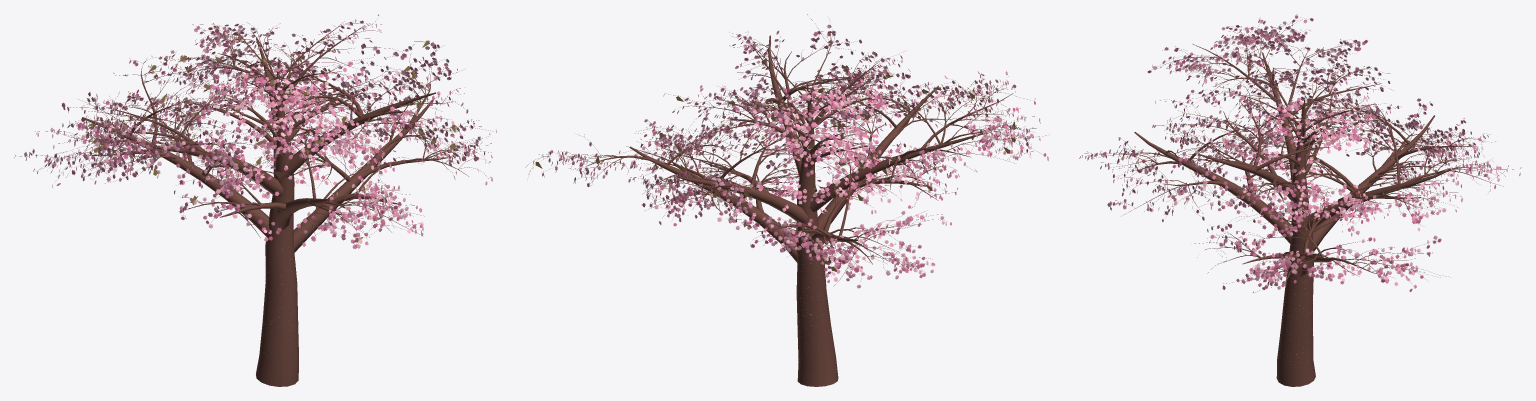
File: kanzan_04.glb
3 renders of one model, left to right at view 1: azimuth 30°, elevation 25°; view 2: azimuth 150°, elevation 25°; view 3: azimuth 270°, elevation 25°, orthographic. The views are drawn at different scales.
Visible parts, largest first — view 1: Kanzan Bark | warm reddish brown, Kanzan Petals | pale pink, Kanzan Petals | blush, Kanzan Petals | warm pink, Kanzan Young leaves | bronze green; view 2: Kanzan Bark | warm reddish brown, Kanzan Petals | pale pink, Kanzan Petals | blush, Kanzan Petals | warm pink; view 3: Kanzan Bark | warm reddish brown, Kanzan Petals | pale pink, Kanzan Petals | blush, Kanzan Petals | warm pink, Kanzan Young leaves | bronze green.
Boxes of the visible parts, bbox=[...] form: Kanzan Bark | warm reddish brown: bbox=[19, 20, 492, 386]; Kanzan Petals | pale pink: bbox=[24, 19, 489, 248]; Kanzan Petals | blush: bbox=[29, 20, 496, 249]; Kanzan Petals | warm pink: bbox=[14, 25, 482, 243]; Kanzan Young leaves | bronze green: bbox=[15, 14, 491, 237]; Kanzan Bark | warm reddish brown: bbox=[525, 18, 1049, 386]; Kanzan Petals | pale pink: bbox=[543, 24, 1040, 288]; Kanzan Petals | blush: bbox=[542, 30, 1046, 279]; Kanzan Petals | warm pink: bbox=[533, 31, 1048, 278]; Kanzan Bark | warm reddish brown: bbox=[1084, 17, 1513, 386]; Kanzan Petals | pale pink: bbox=[1082, 15, 1520, 289]; Kanzan Petals | blush: bbox=[1079, 18, 1508, 291]; Kanzan Petals | warm pink: bbox=[1090, 15, 1505, 288]; Kanzan Young leaves | bronze green: bbox=[1087, 14, 1521, 292].
Size of the model in its own units: 8.3 by 5.94 by 7.67.
